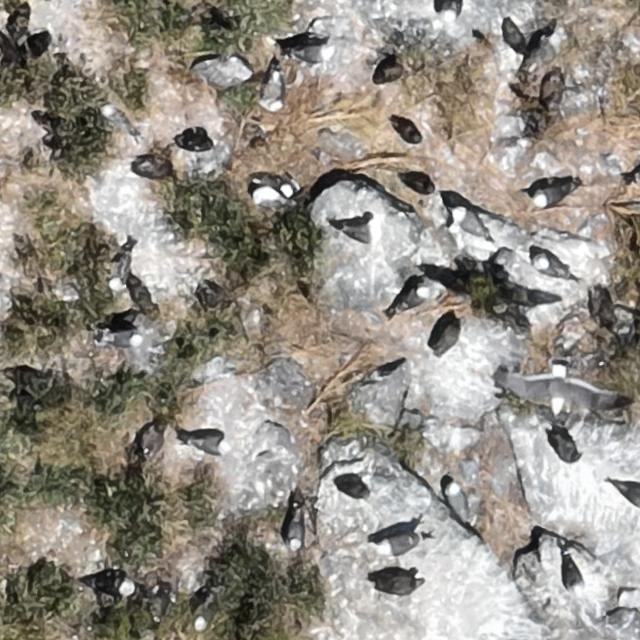F: (507, 360, 617, 414)
umineko: (247, 173, 306, 206), (520, 32, 563, 76), (103, 239, 135, 291), (83, 570, 137, 599), (452, 207, 492, 243), (391, 282, 434, 314), (260, 66, 285, 113), (563, 552, 586, 598), (550, 432, 580, 464), (381, 534, 416, 554), (536, 186, 570, 206), (340, 223, 374, 242), (191, 435, 224, 454), (103, 106, 128, 131), (291, 46, 330, 62), (535, 256, 563, 278), (447, 484, 465, 518), (194, 600, 214, 629), (105, 331, 141, 346), (289, 514, 304, 548), (620, 484, 640, 506), (436, 6, 456, 23)
